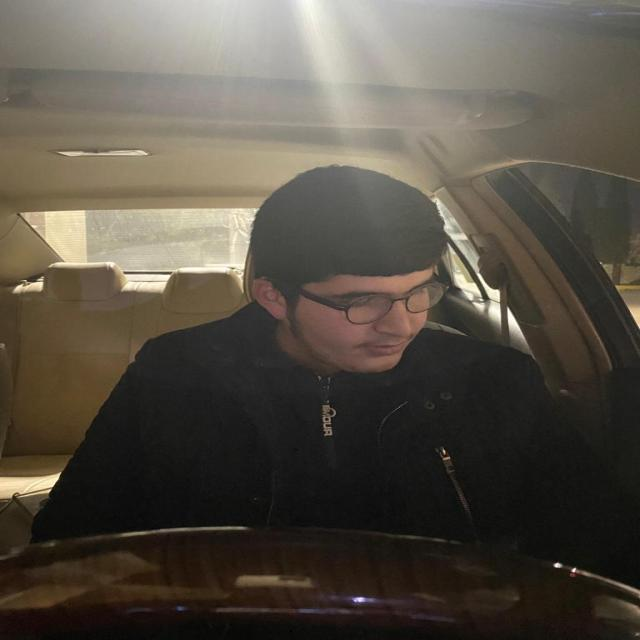drowsy: (234, 177, 456, 378)
